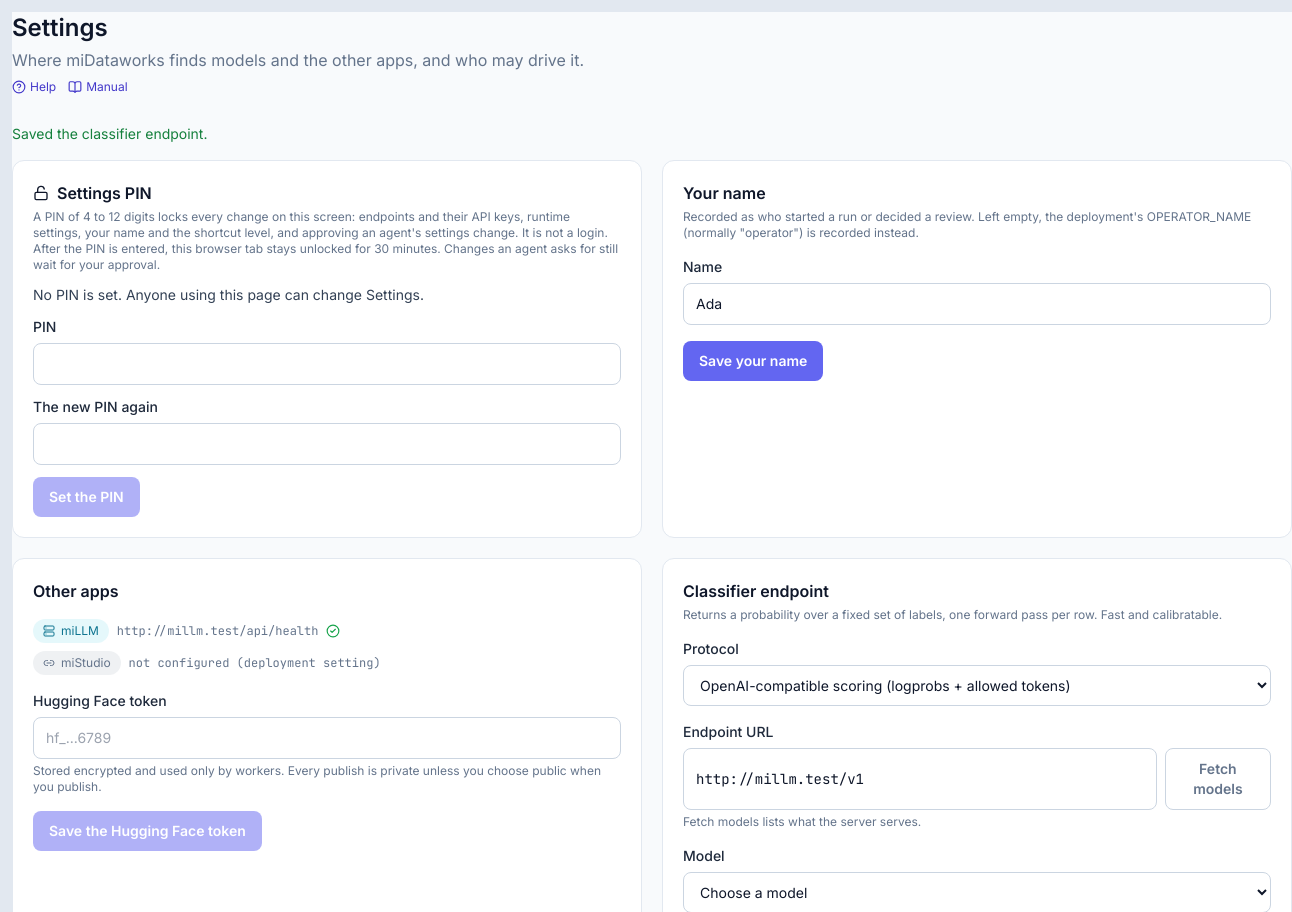
Test: SettingsPanel › a failed Fetch models shows the server reason
The image size is (1292, 912).
What coordinates should you click on to do the following:
click the button "Fetch models"
I would click on:
 (1218, 779)
Its box is [1165,748,1271,810].
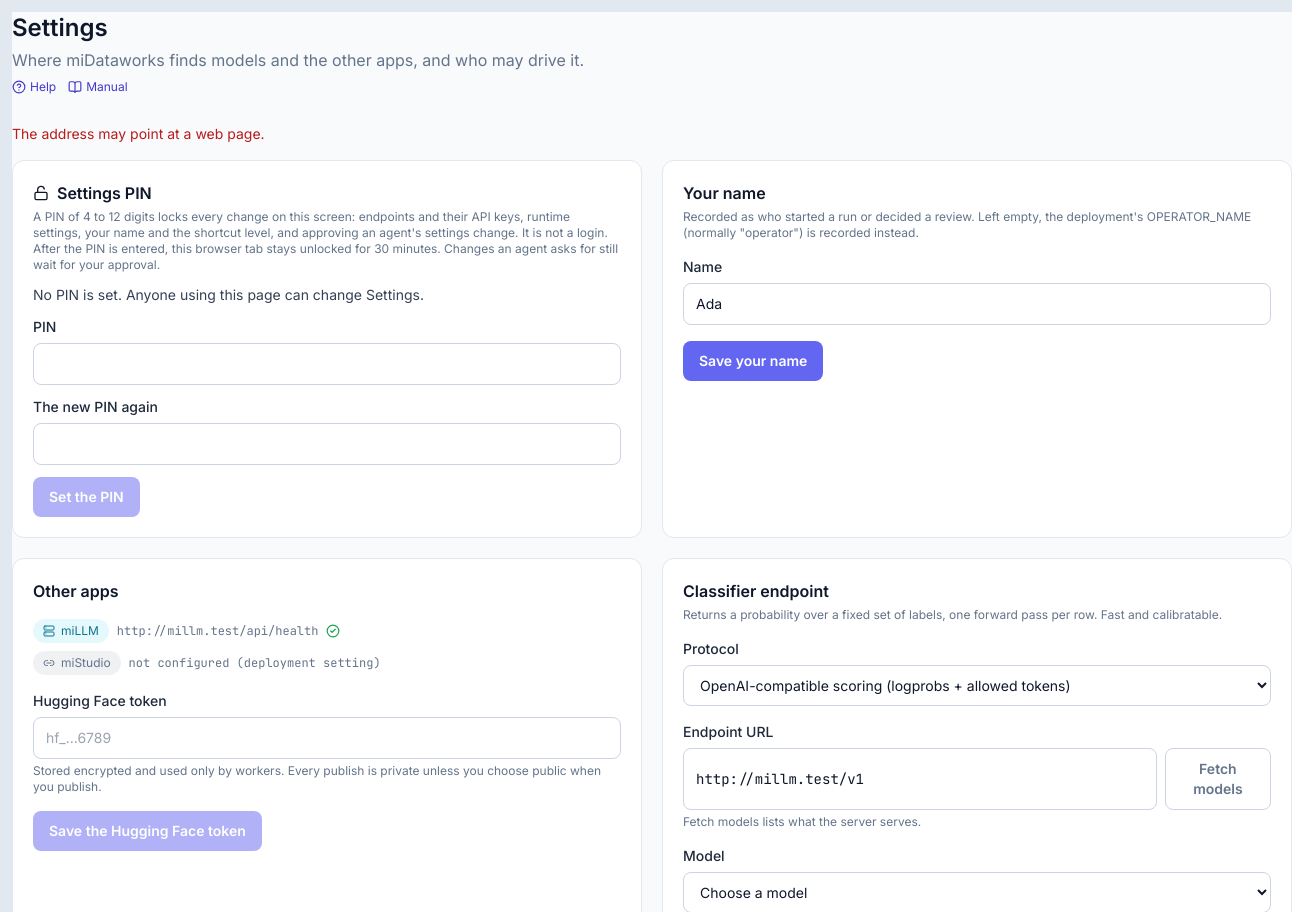
Expected: the message shows "web page", [12,125,265,142]
